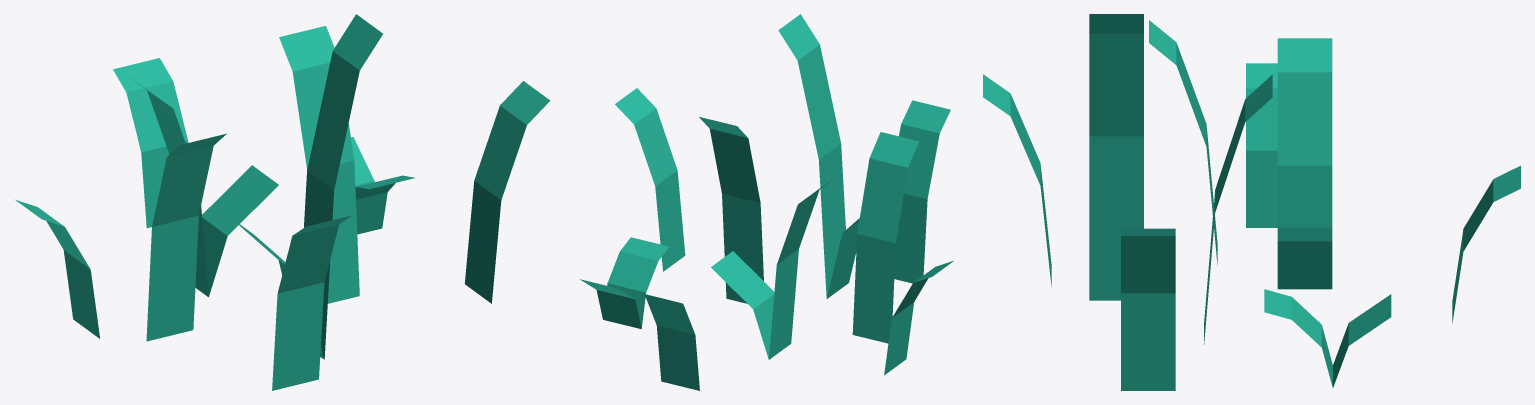
The model's file is grassS.glb.
3 renders of one model, left to right at view 1: azimuth 30°, elevation 25°; view 2: azimuth 150°, elevation 25°; view 3: azimuth 270°, elevation 25°, orthographic. The views are drawn at different scales.
Visible parts, largest first — view 1: grass; view 2: grass; view 3: grass.
Part boxes in pixels (box(x1,y1,x2,y2)): grass: box(15, 14, 550, 390); grass: box(580, 14, 953, 390); grass: box(983, 14, 1520, 390).
Bounding box in the file's own units: 0.3811 × 0.254 × 0.3922.
